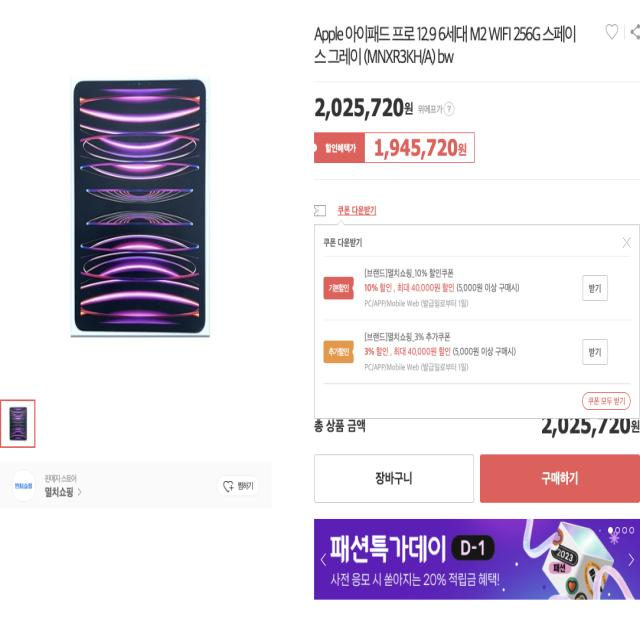product_discount_price: (374, 136, 471, 163)
product_name: (311, 22, 592, 70)
product_original_price: (311, 95, 414, 122)
